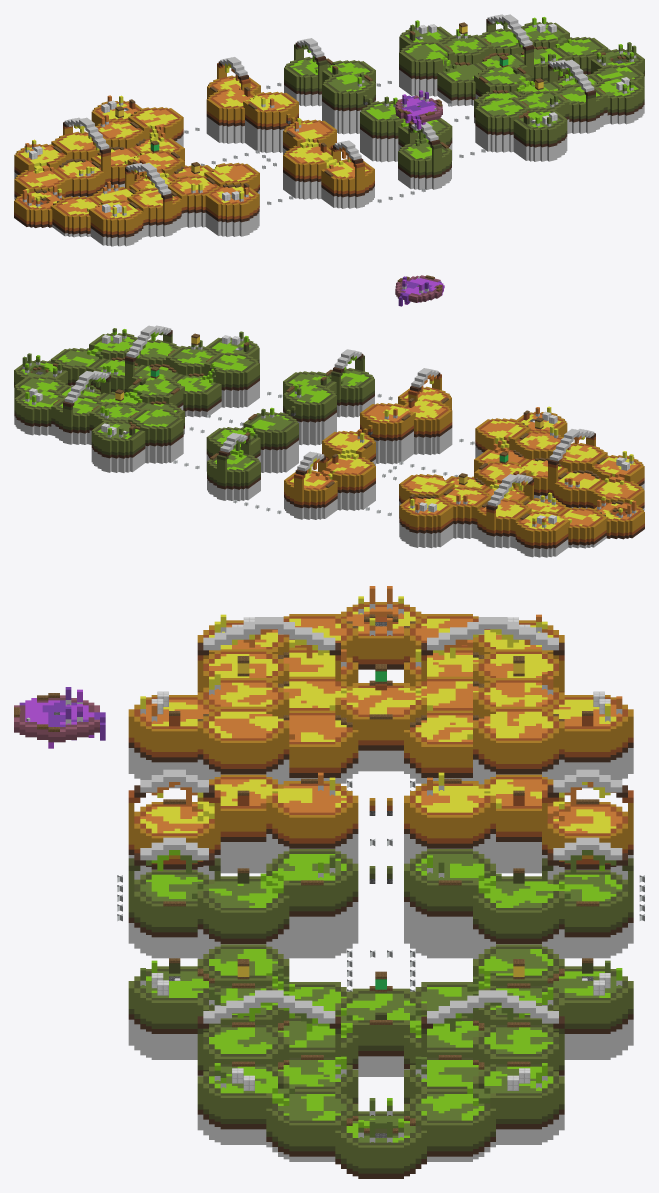
File: minecraft.obj
The picture shows the model from 3 angles, top to bottom: view 1: azimuth 30°, elevation 25°; view 2: azimuth 150°, elevation 25°; view 3: azimuth 270°, elevation 25°; orthographic projection. The views are drawn at different scales.
Size of the model in its own units: 225 by 40 by 110.
